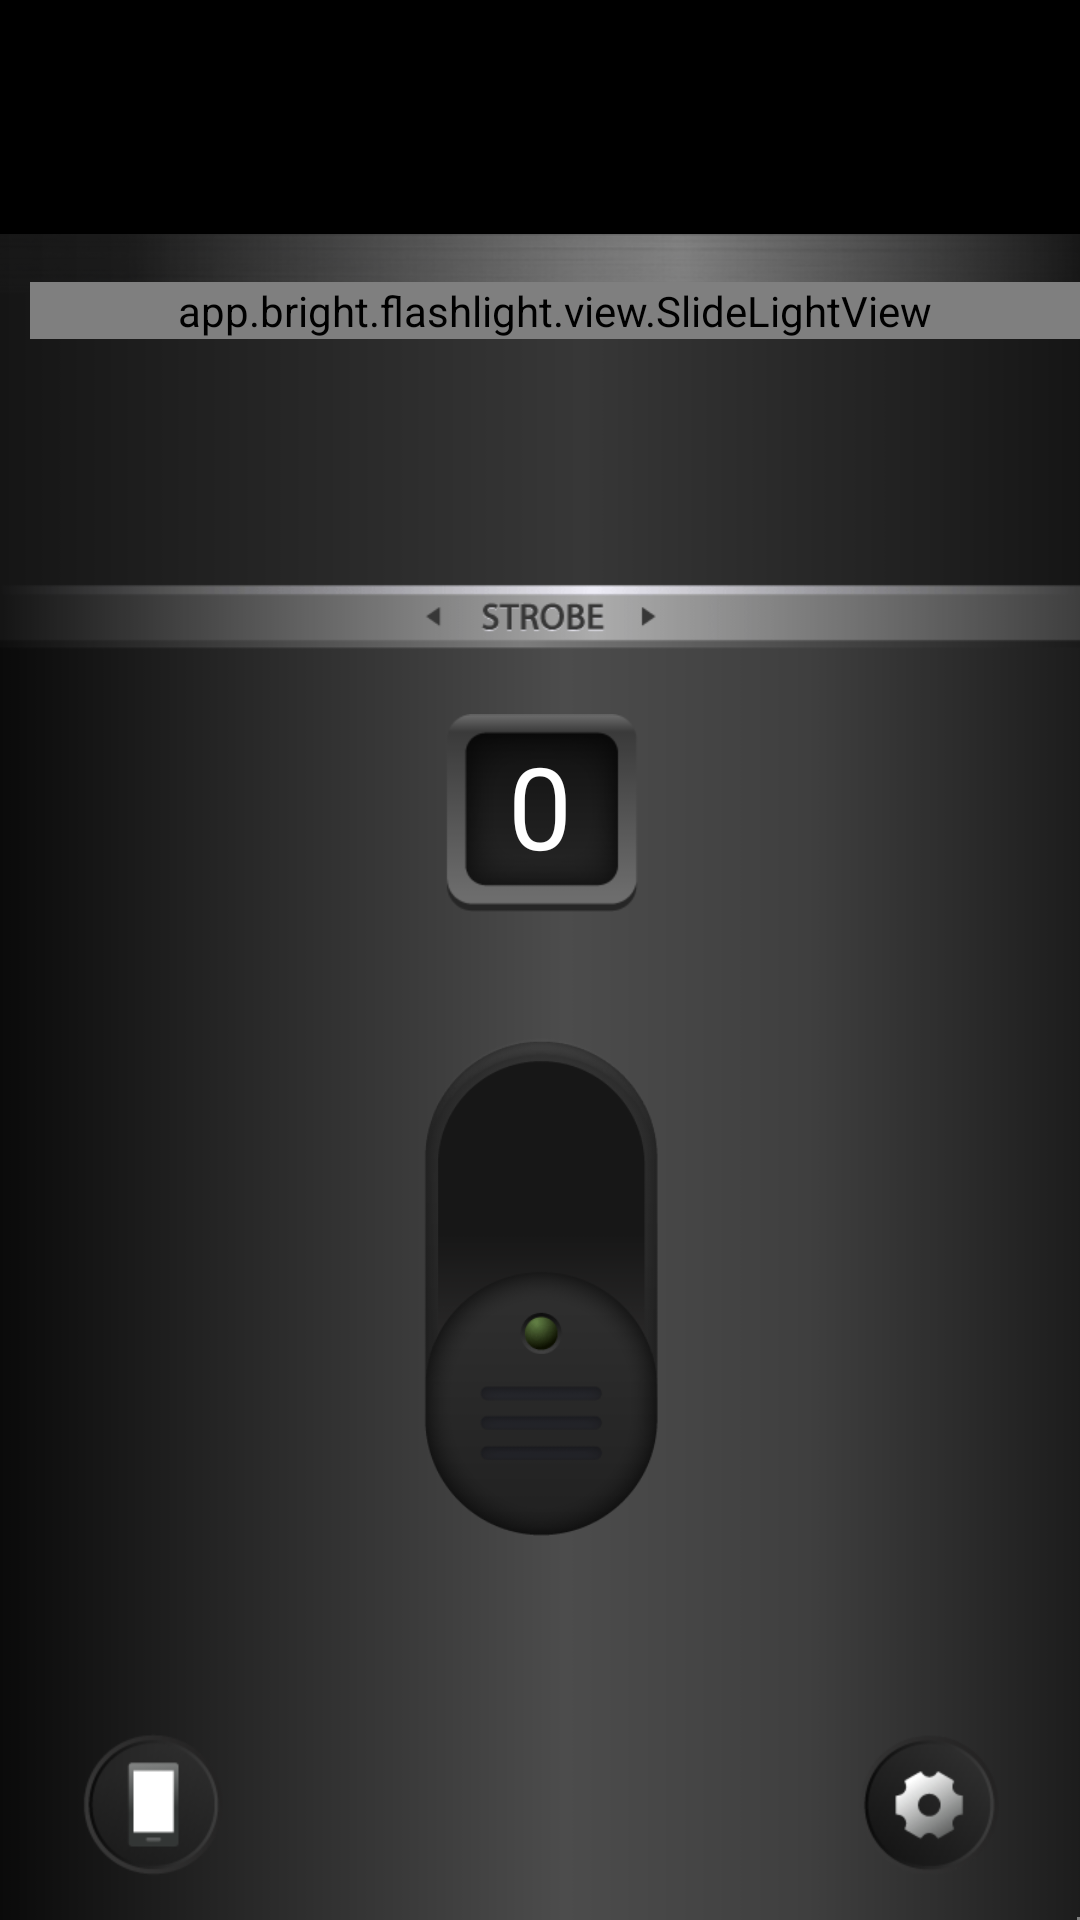

Icons on this 1080px×1920px Android screen, each with its box as (x1, y1, x2, y2):
set: (865, 1742, 971, 1868)
